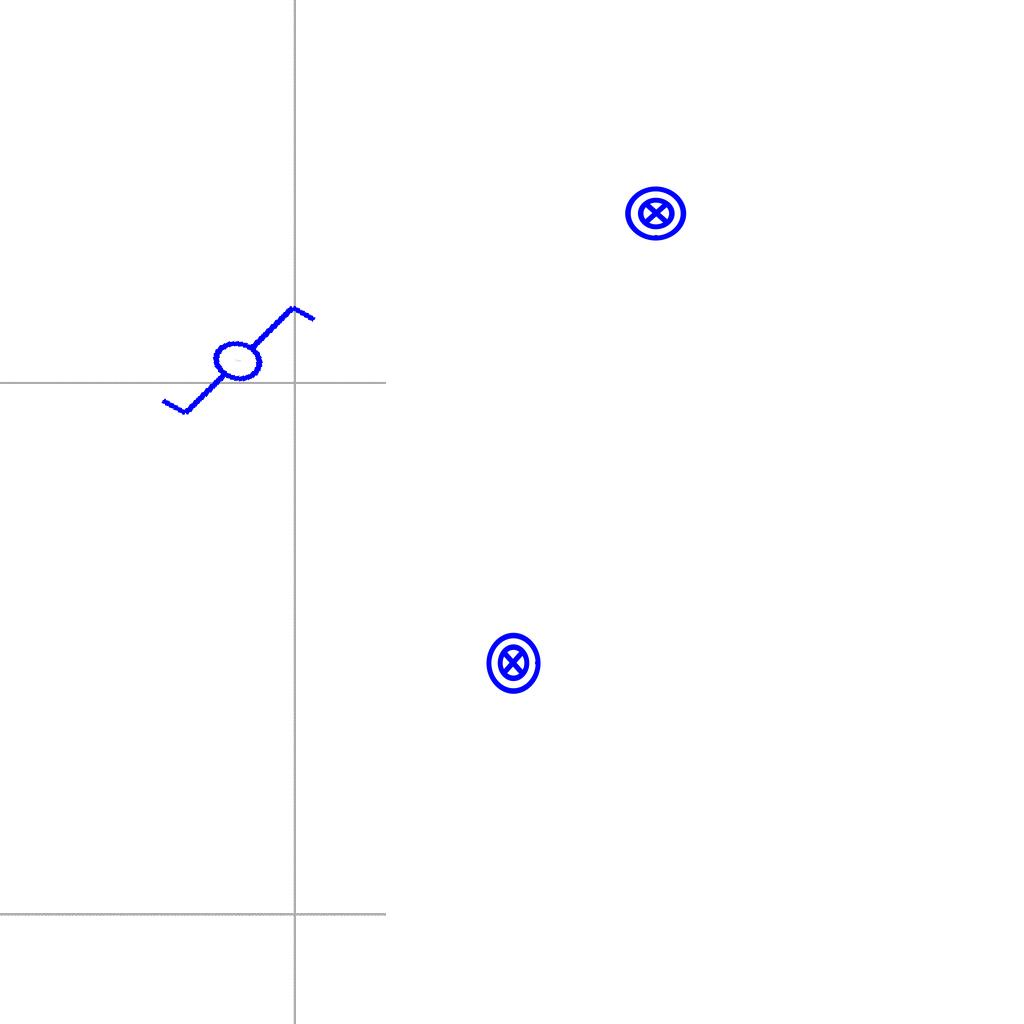Taster_beleuchtet: (480, 630, 546, 696), (623, 180, 689, 246)
Wechselschalter: (137, 269, 324, 445)
